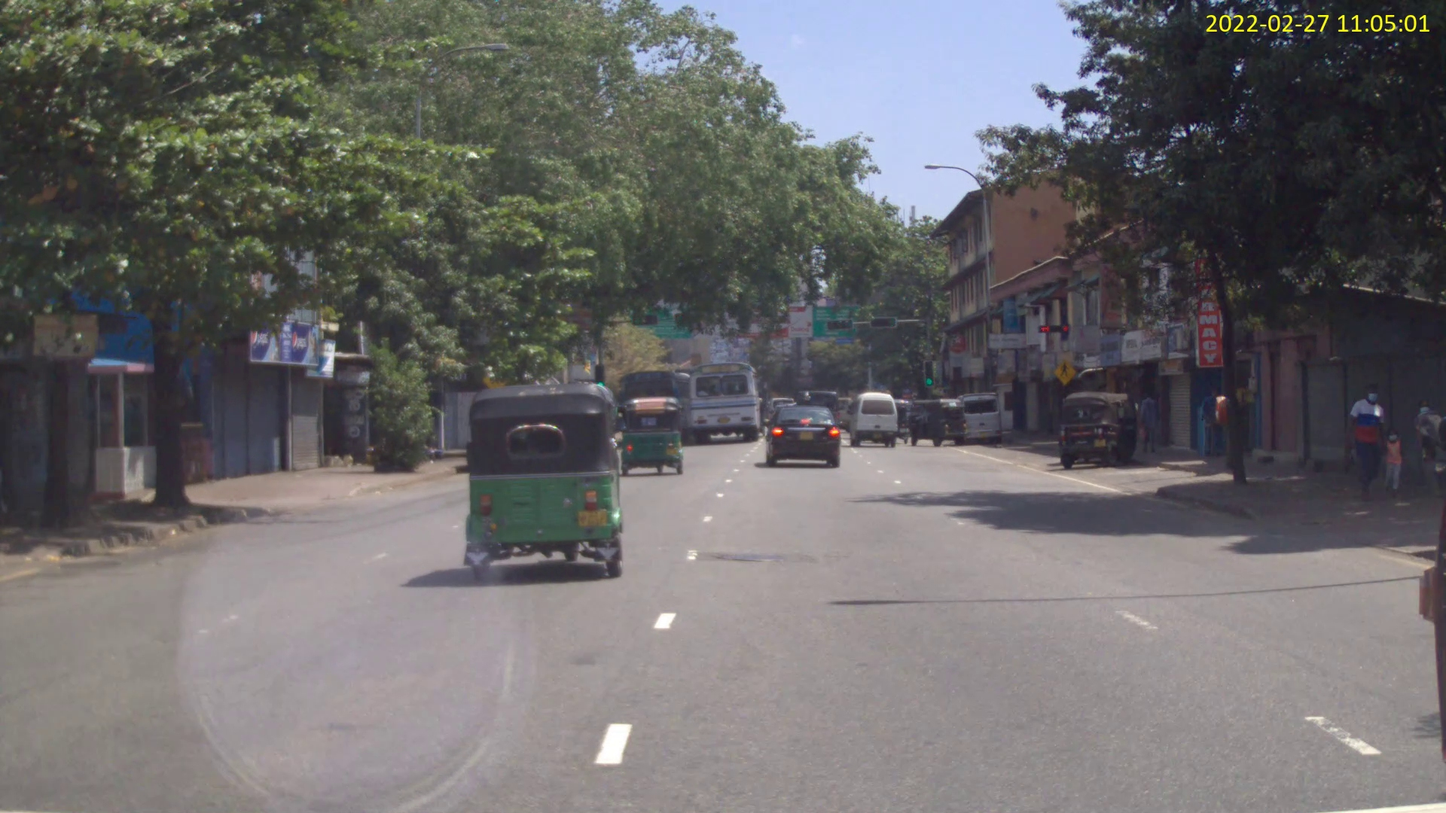Empty: (827, 319, 853, 330)
Green: (870, 316, 897, 327), (924, 361, 933, 387), (594, 365, 605, 386)
